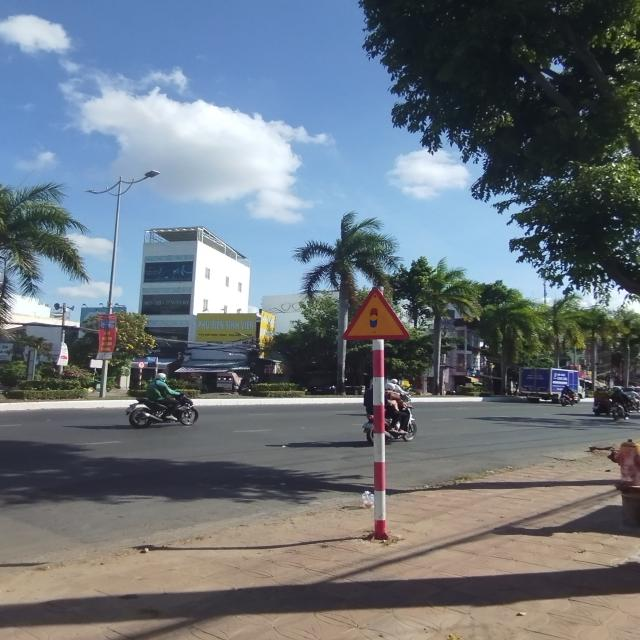Duong_Co_Go_Giam_Toc: (341, 286, 412, 340)
